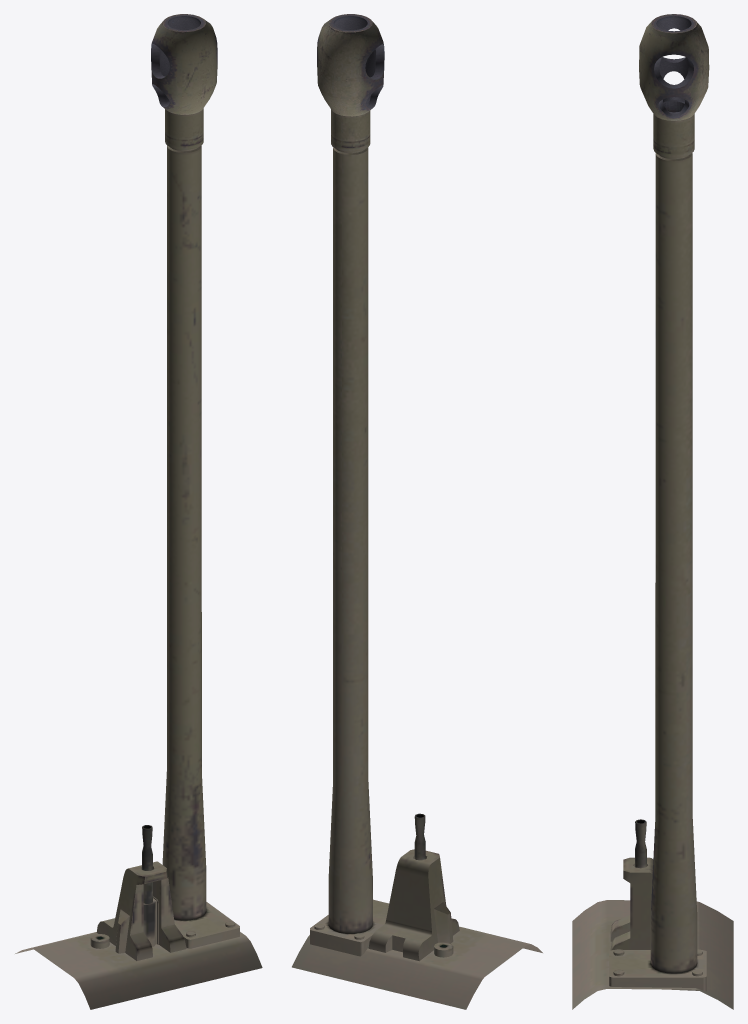
File: Gun_08.glb
The picture shows the model from 3 angles, left to right: view 1: azimuth 30°, elevation 25°; view 2: azimuth 150°, elevation 25°; view 3: azimuth 270°, elevation 25°; orthographic projection. The views are drawn at different scales.
Parts seen in each view (by area): view 1: set_0_group_0; view 2: set_0_group_0; view 3: set_0_group_0.
Part boxes in pixels (x1,y1,x2,y2): set_0_group_0: [15, 14, 262, 1009]; set_0_group_0: [292, 14, 542, 1009]; set_0_group_0: [572, 14, 733, 1009].
Size of the model in its own units: 0.6116 by 3.11 by 0.4689.
1 material, 1 textured.
